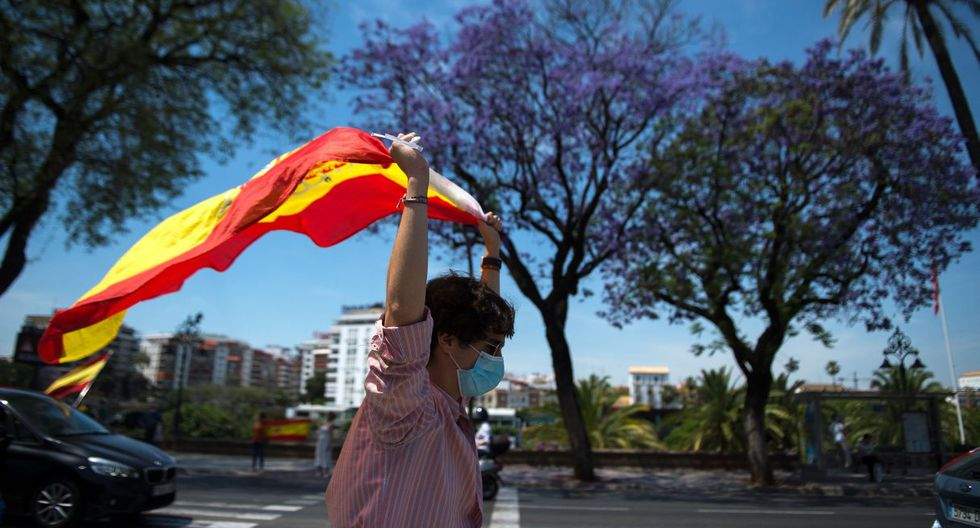with_mask: (436, 282, 517, 407)
